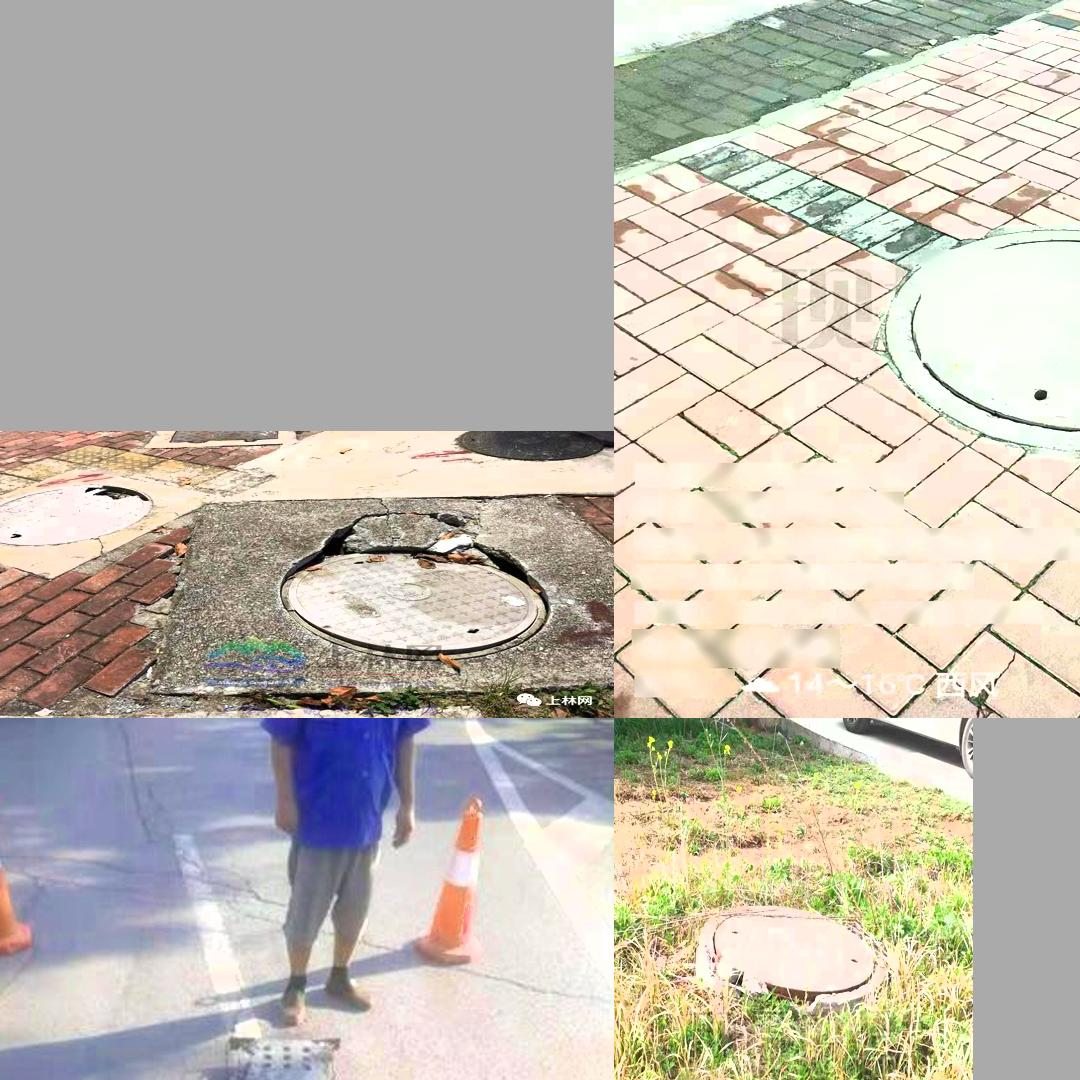circle: (140, 488, 611, 695), (878, 229, 1080, 459), (697, 898, 899, 1016)
